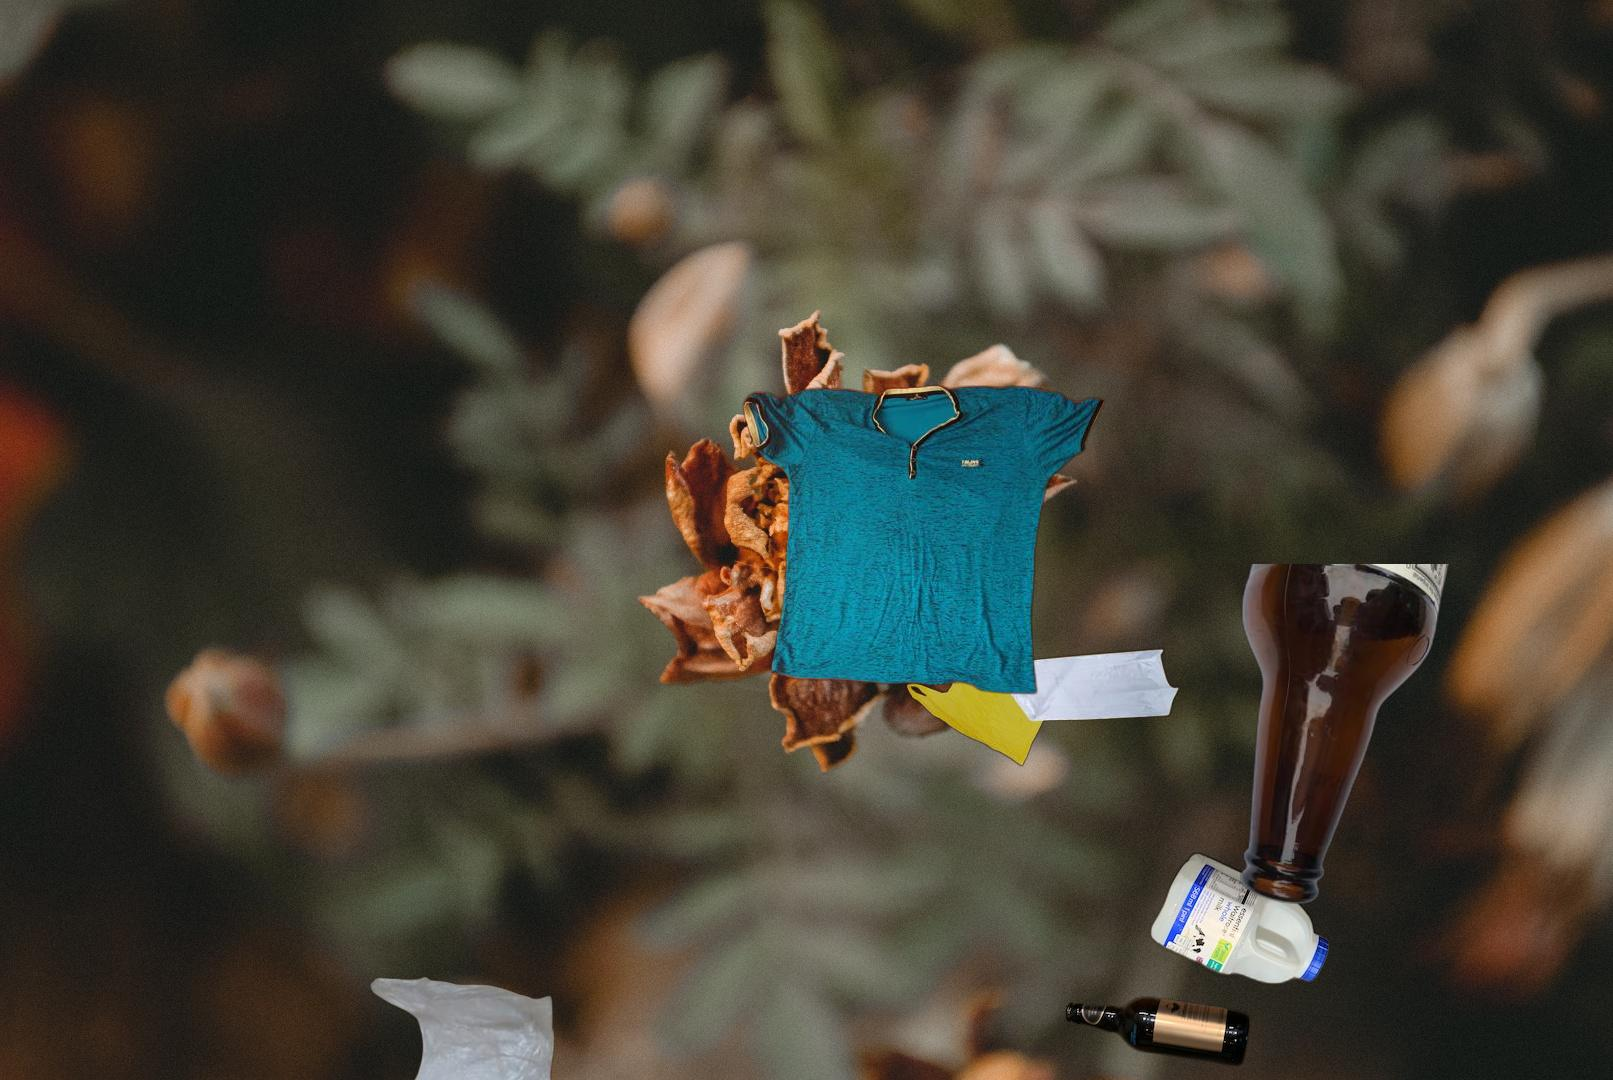clothes: (739, 382, 1108, 697)
glass: (1236, 564, 1454, 906), (1062, 994, 1254, 1069)
plastic-bag: (903, 622, 1184, 769), (352, 974, 556, 1080)
plastic-bottles: (1146, 847, 1335, 990)
